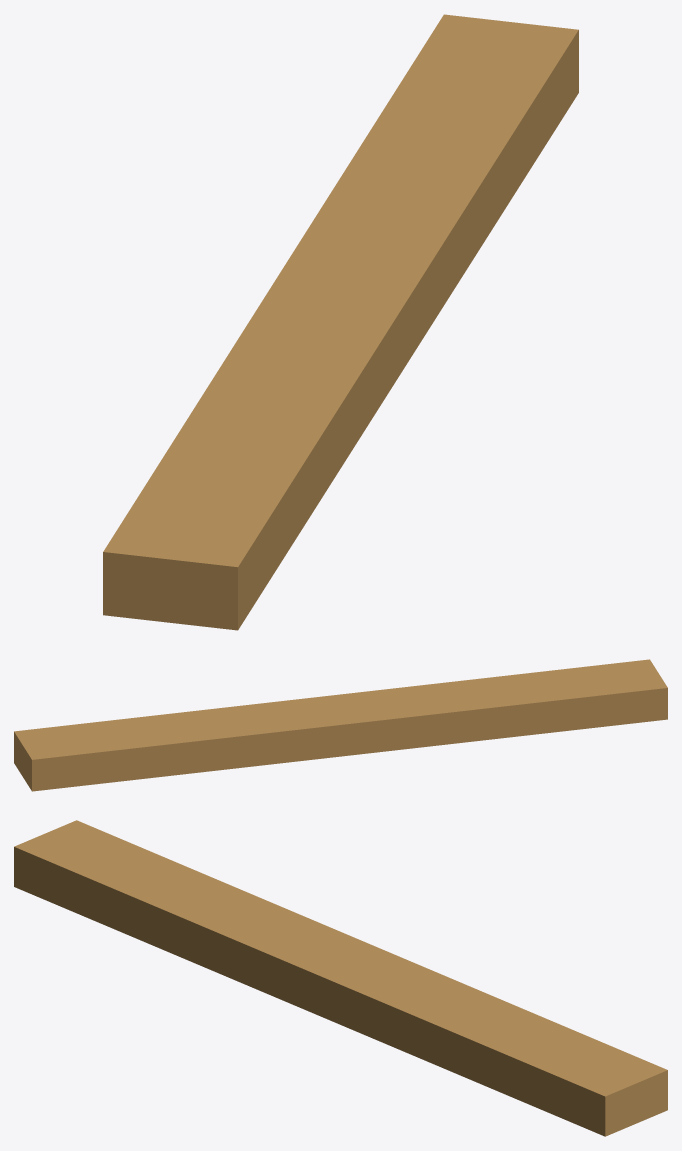
The picture shows the model from 3 angles, top to bottom: view 1: azimuth 30°, elevation 25°; view 2: azimuth 150°, elevation 25°; view 3: azimuth 270°, elevation 25°; orthographic projection. The views are drawn at different scales.
Parts seen in each view (by area): view 1: RUN-019-S00-bottom_plate; view 2: RUN-019-S00-bottom_plate; view 3: RUN-019-S00-bottom_plate.
Part boxes in pixels (x1,y1,x2,y2): RUN-019-S00-bottom_plate: (103,14,578,630); RUN-019-S00-bottom_plate: (14,659,667,791); RUN-019-S00-bottom_plate: (14,820,667,1136).
Size of the model in its own units: 0.6636 by 0.045 by 0.6636.
